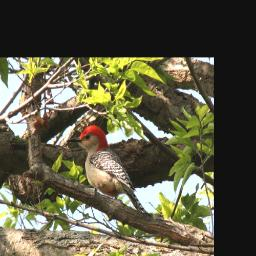Woodpecker: (65, 122, 151, 217)
